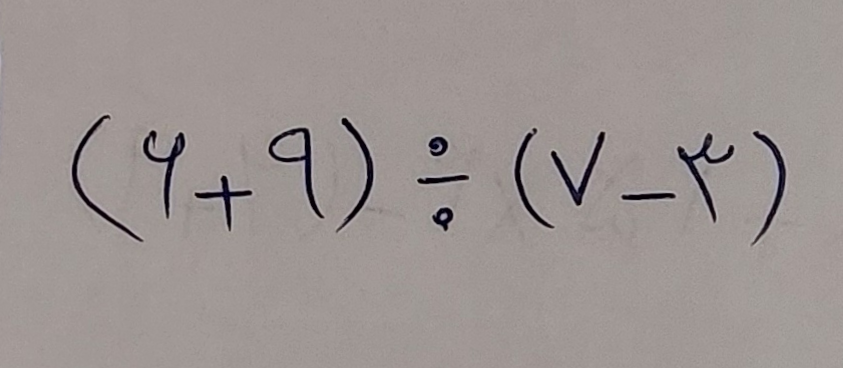character: (71, 114, 141, 241), (418, 137, 471, 233), (267, 128, 324, 217), (677, 132, 733, 221), (335, 117, 375, 234), (749, 128, 788, 247), (514, 128, 555, 230), (553, 131, 604, 207), (142, 129, 183, 219), (196, 176, 251, 230), (619, 190, 676, 202)
